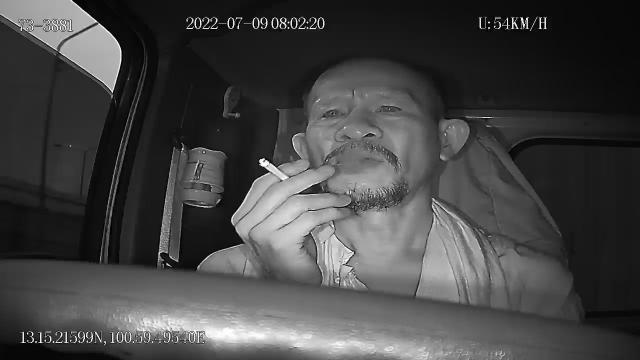SafeDriving: (312, 100, 351, 129), (371, 94, 412, 120)
Smoking: (256, 156, 292, 182)
